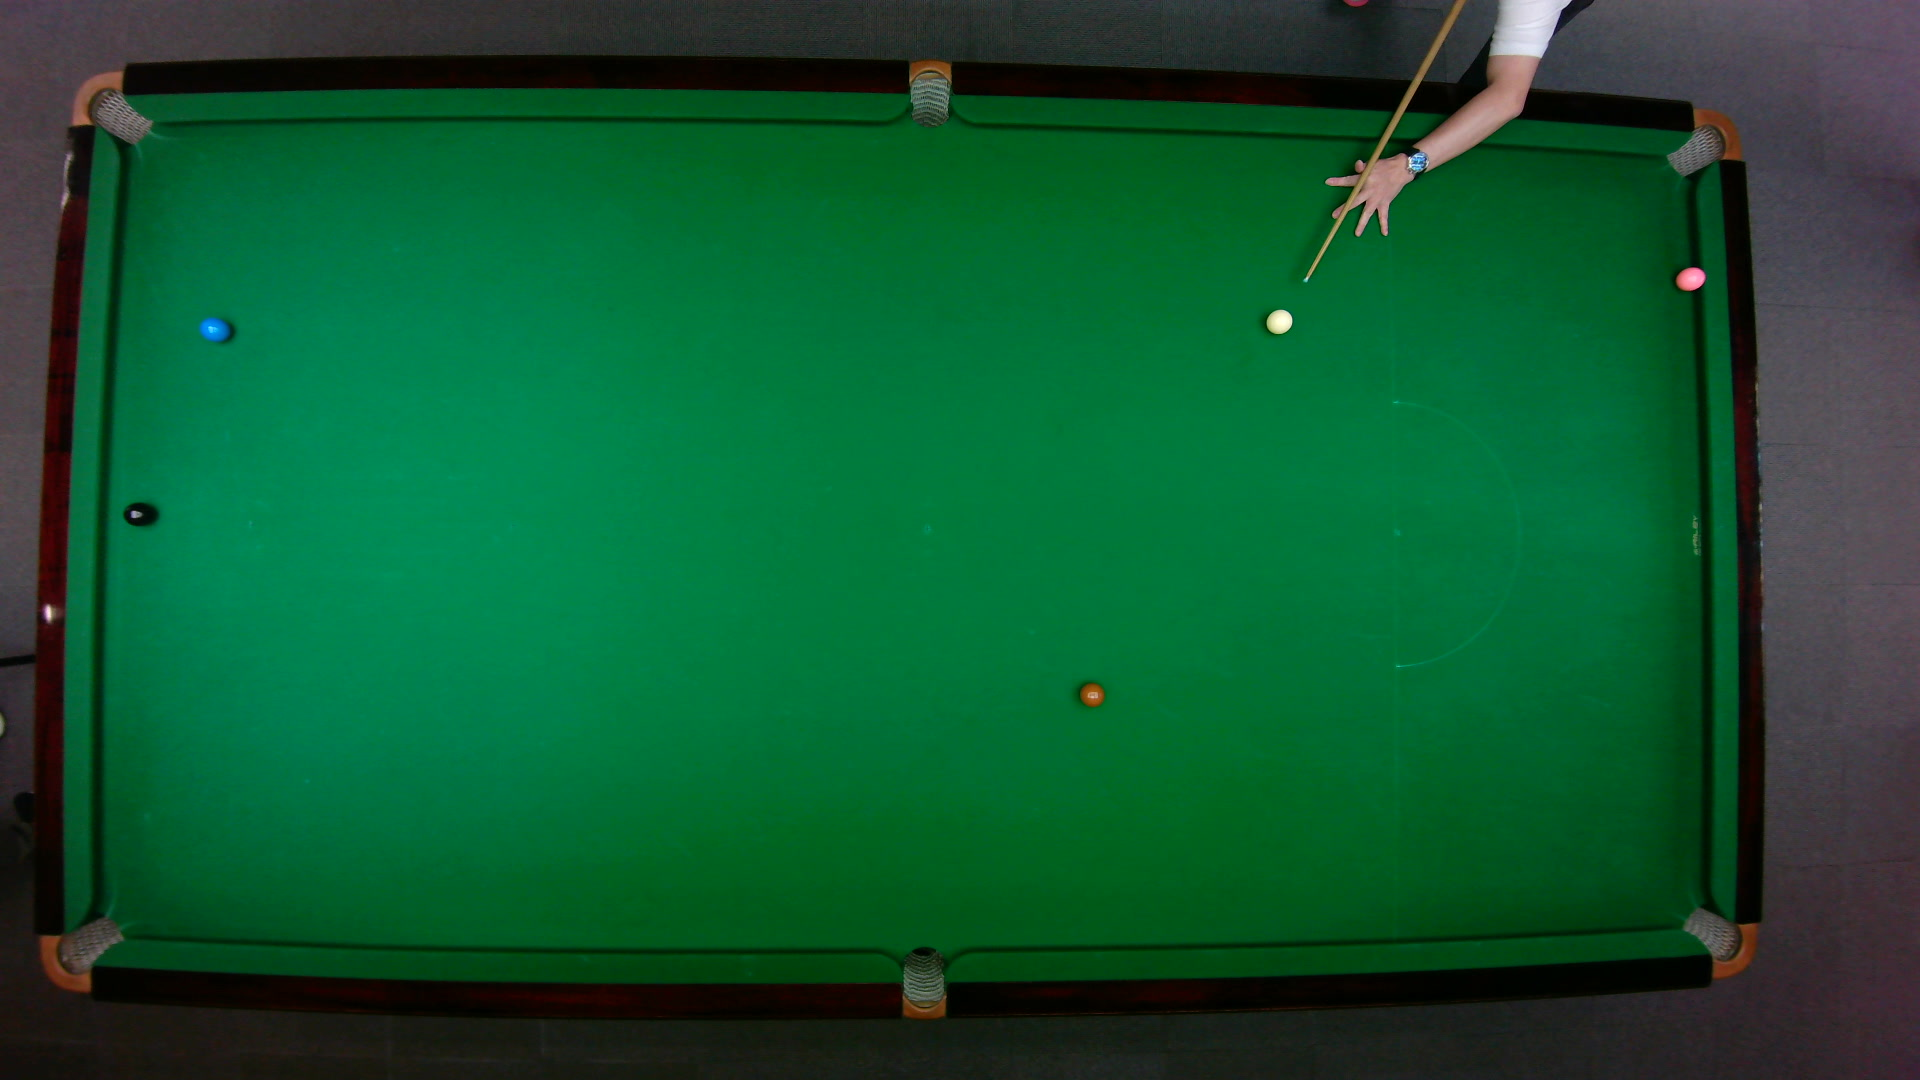bag: (37, 914, 125, 992), (69, 69, 152, 145), (1679, 905, 1758, 978), (1662, 105, 1741, 177), (901, 944, 944, 1021), (909, 57, 949, 128)
black: (121, 500, 154, 526)
blue: (196, 315, 231, 342)
brown: (1077, 680, 1105, 707)
cue: (1299, 0, 1468, 282)
pink: (1673, 264, 1706, 291)
white: (1263, 306, 1294, 335)
zone: (1391, 400, 1520, 669)
